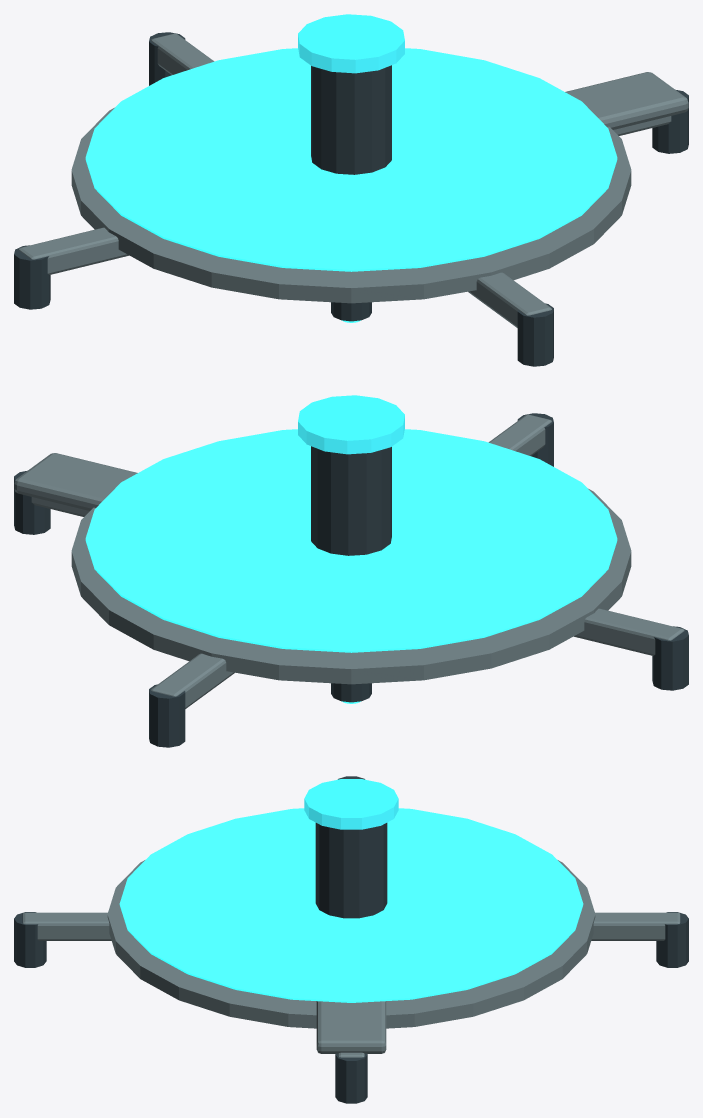
Rendered from tempest-ozone-base-v1-lod1.glb.
3 renders of one model, top to bottom at view 1: azimuth 30°, elevation 25°; view 2: azimuth 150°, elevation 25°; view 3: azimuth 270°, elevation 25°, orthographic. The views are drawn at different scales.
Parts seen in each view (by area): view 1: tempest_ozone_base__lod1__Tempest emissive guidance, tempest_ozone_base__lod1__Tempest aerospace shell, tempest_ozone_base__lod1__Tempest structural frame, tempest_ozone_base__lod1__Tempest recessed glazing; view 2: tempest_ozone_base__lod1__Tempest emissive guidance, tempest_ozone_base__lod1__Tempest aerospace shell, tempest_ozone_base__lod1__Tempest structural frame, tempest_ozone_base__lod1__Tempest recessed glazing; view 3: tempest_ozone_base__lod1__Tempest emissive guidance, tempest_ozone_base__lod1__Tempest aerospace shell, tempest_ozone_base__lod1__Tempest structural frame, tempest_ozone_base__lod1__Tempest recessed glazing.
Part boxes in pixels (bbox=[...]): tempest_ozone_base__lod1__Tempest emissive guidance: bbox=[85, 48, 617, 322]; tempest_ozone_base__lod1__Tempest aerospace shell: bbox=[18, 33, 688, 327]; tempest_ozone_base__lod1__Tempest structural frame: bbox=[14, 32, 688, 366]; tempest_ozone_base__lod1__Tempest recessed glazing: bbox=[298, 14, 404, 73]; tempest_ozone_base__lod1__Tempest emissive guidance: bbox=[85, 429, 617, 703]; tempest_ozone_base__lod1__Tempest aerospace shell: bbox=[14, 414, 684, 708]; tempest_ozone_base__lod1__Tempest structural frame: bbox=[14, 413, 688, 747]; tempest_ozone_base__lod1__Tempest recessed glazing: bbox=[298, 395, 404, 454]; tempest_ozone_base__lod1__Tempest emissive guidance: bbox=[119, 808, 583, 1002]; tempest_ozone_base__lod1__Tempest aerospace shell: bbox=[22, 860, 680, 1057]; tempest_ozone_base__lod1__Tempest structural frame: bbox=[14, 776, 688, 1103]; tempest_ozone_base__lod1__Tempest recessed glazing: bbox=[304, 779, 398, 829].
Size of the model in its own units: 828 by 332 by 830.
